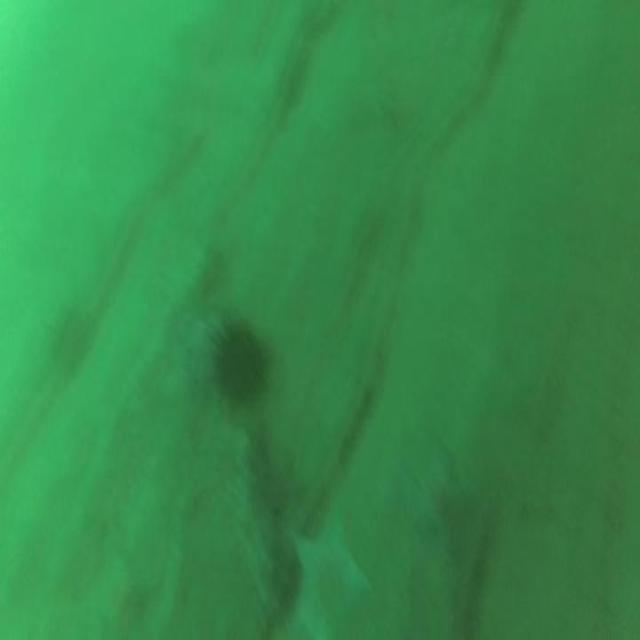echinus: (206, 308, 276, 406), (39, 297, 100, 381)
holothurian: (221, 420, 296, 628)
starfish: (288, 510, 374, 640), (404, 435, 474, 567), (169, 297, 224, 395)
